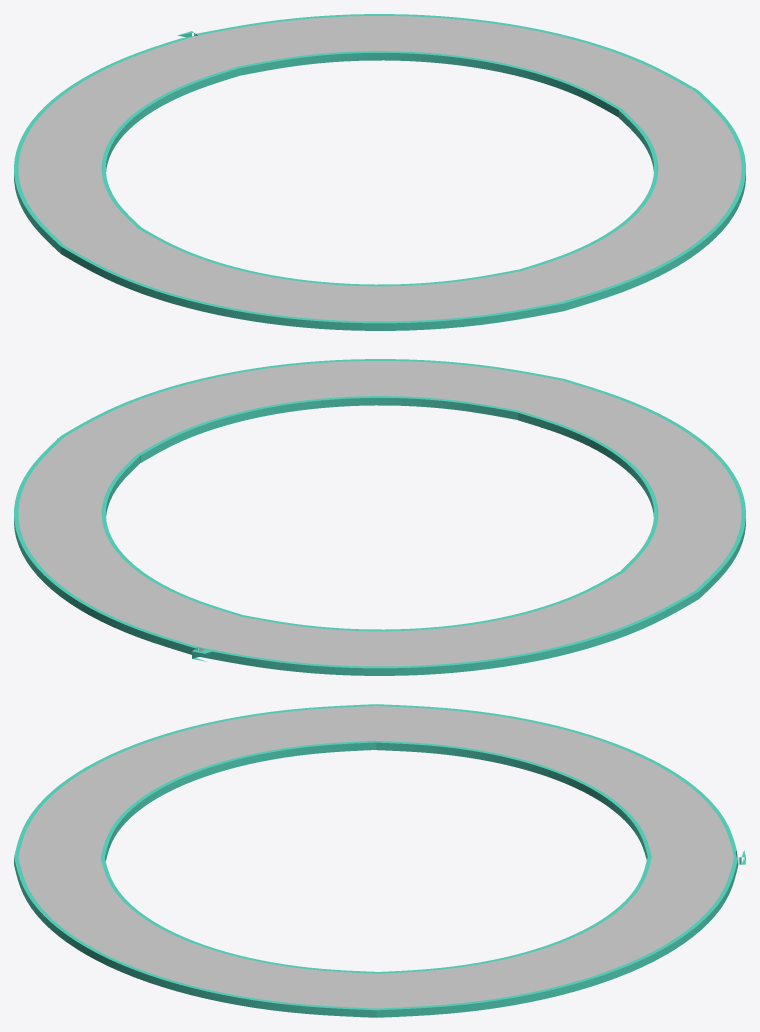
The model's file is PistaCircular.obj.
3 renders of one model, top to bottom at view 1: azimuth 30°, elevation 25°; view 2: azimuth 150°, elevation 25°; view 3: azimuth 270°, elevation 25°, orthographic.
Visible parts, largest first — view 1: OvalTrack; view 2: OvalTrack; view 3: OvalTrack.
Boxes of the visible parts, x1=… form: OvalTrack: x1=14, y1=14, x2=745, y2=330; OvalTrack: x1=14, y1=359, x2=745, y2=675; OvalTrack: x1=14, y1=704, x2=745, y2=1017.
Bounding box in the file's own units: 59.1 × 0.6744 × 59.71.
